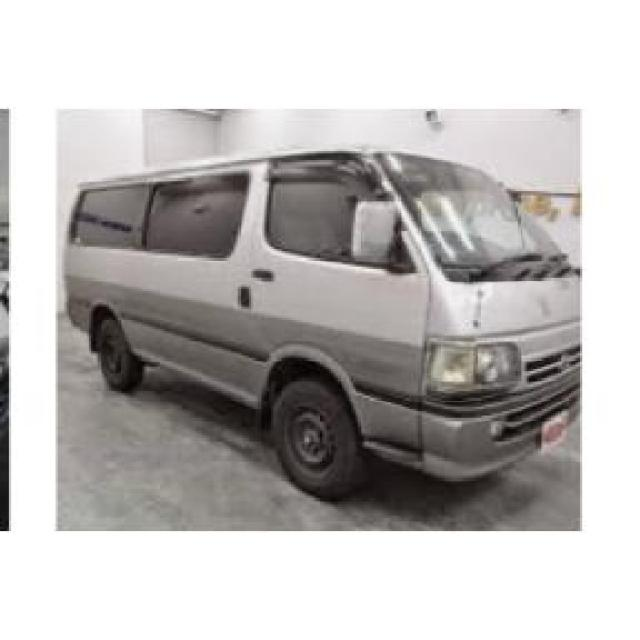Van: (67, 139, 582, 498)
